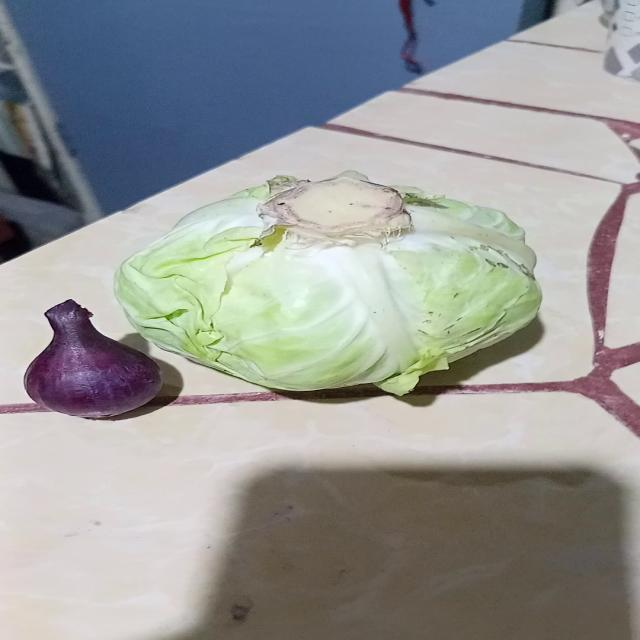cabbage: (112, 171, 542, 397)
onion: (23, 301, 175, 421)
